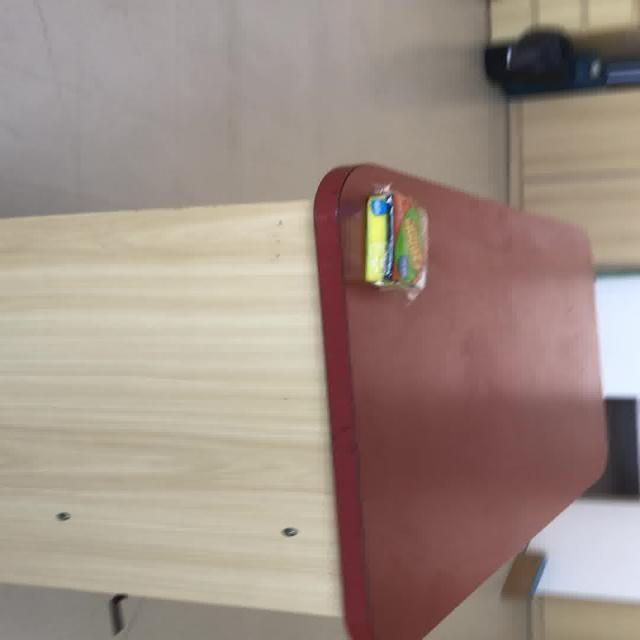sponge: (362, 189, 429, 304), (362, 192, 392, 285)
